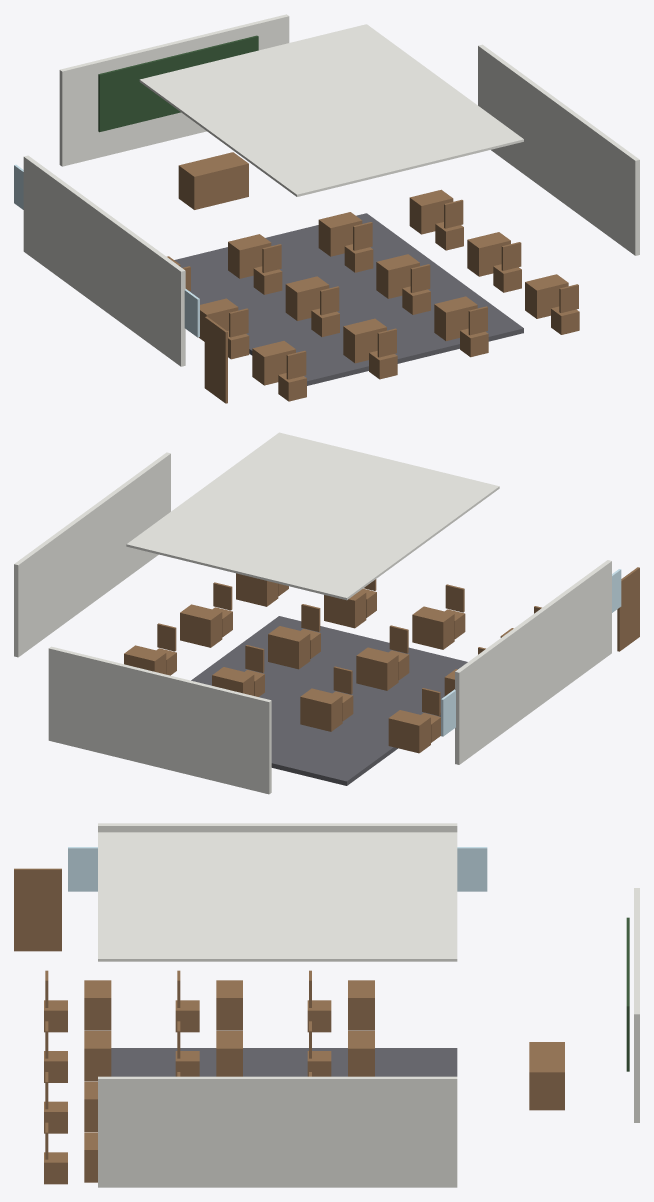
File: immersive_classroom.glb
The picture shows the model from 3 angles, top to bottom: view 1: azimuth 30°, elevation 25°; view 2: azimuth 150°, elevation 25°; view 3: azimuth 270°, elevation 25°; orthographic projection. The views are drawn at different scales.
Visible parts, largest first — view 1: IC_Plafon, IC_Lantai, IC_Dinding_Kiri, IC_Dinding_Kanan, IC_Dinding_Belakang, IC_PapanTulis, IC_Meja_Guru, IC_Pintu, IC_Meja_12, IC_Meja_6, IC_Meja_11, IC_Meja_8 (+18 smaller); view 2: IC_Plafon, IC_Dinding_Belakang, IC_Lantai, IC_Dinding_Kiri, IC_Dinding_Kanan, IC_Meja_2, IC_Meja_6, IC_Meja_7, IC_Meja_8, IC_Meja_10, IC_Meja_9, IC_Pintu (+5 smaller); view 3: IC_Plafon, IC_Dinding_Kanan, IC_Lantai, IC_Pintu, IC_Dinding_Kiri, IC_Meja_Guru, IC_Meja_1, IC_Dinding_Belakang, IC_Jendela_2, IC_Meja_5, IC_Meja_9, IC_Meja_2 (+14 smaller).
Boxes of the visible parts, left/top/right/bottom form: IC_Plafon: left=139, top=24, right=523, bottom=196; IC_Lantai: left=174, top=213, right=523, bottom=385; IC_Dinding_Kiri: left=23, top=155, right=185, bottom=366; IC_Dinding_Kanan: left=478, top=44, right=639, bottom=255; IC_Dinding_Belakang: left=59, top=14, right=289, bottom=166; IC_PapanTulis: left=98, top=35, right=258, bottom=132; IC_Meja_Guru: left=178, top=152, right=248, bottom=209; IC_Pintu: left=204, top=316, right=227, bottom=403; IC_Meja_12: left=409, top=189, right=453, bottom=234; IC_Meja_6: left=285, top=276, right=329, bottom=320; IC_Meja_11: left=318, top=212, right=362, bottom=256; IC_Meja_8: left=467, top=232, right=510, bottom=276; IC_Plafon: left=126, top=432, right=499, bottom=600; IC_Dinding_Belakang: left=48, top=646, right=271, bottom=794; IC_Lantai: left=191, top=616, right=467, bottom=785; IC_Dinding_Kiri: left=455, top=560, right=611, bottom=764; IC_Dinding_Kanan: left=14, top=452, right=170, bottom=657; IC_Meja_2: left=412, top=606, right=454, bottom=649; IC_Meja_6: left=356, top=647, right=398, bottom=690; IC_Meja_7: left=268, top=626, right=310, bottom=669; IC_Meja_8: left=180, top=604, right=222, bottom=647; IC_Meja_10: left=300, top=688, right=342, bottom=731; IC_Meja_9: left=388, top=710, right=430, bottom=753; IC_Pintu: left=617, top=567, right=639, bottom=651; IC_Plafon: left=98, top=832, right=457, bottom=961; IC_Dinding_Kanan: left=98, top=1076, right=457, bottom=1187; IC_Lantai: left=111, top=1048, right=457, bottom=1076; IC_Pintu: left=14, top=868, right=61, bottom=951; IC_Dinding_Kiri: left=98, top=823, right=457, bottom=832; IC_Meja_Guru: left=529, top=1042, right=564, bottom=1110; IC_Meja_1: left=84, top=980, right=111, bottom=1030; IC_Dinding_Belakang: left=634, top=888, right=639, bottom=1122; IC_Jendela_2: left=457, top=847, right=487, bottom=891; IC_Meja_5: left=216, top=980, right=242, bottom=1030; IC_Meja_9: left=348, top=980, right=374, bottom=1030; IC_Meja_2: left=84, top=1031, right=111, bottom=1081.
Size of the model in its own units: 10.1 by 4.08 by 10.45.
